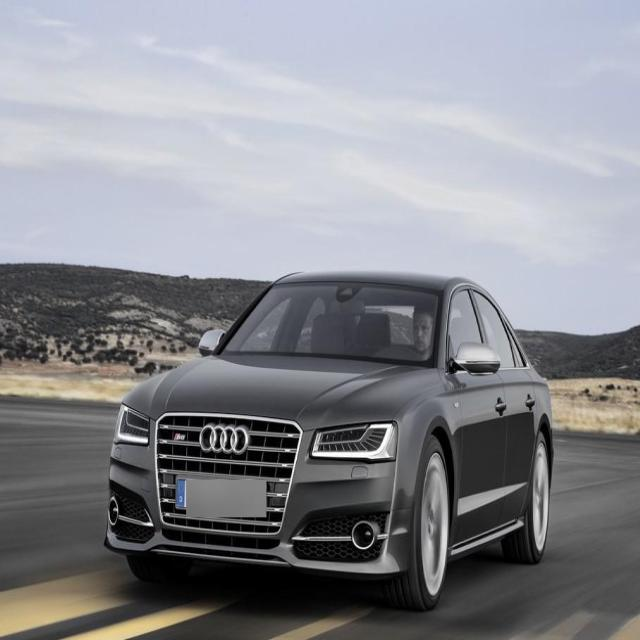front_bumper: (106, 436, 418, 576)
front_glass: (219, 286, 446, 364)
front_left_side_door: (448, 280, 504, 552)
front_left_side_light: (308, 418, 400, 467)
front_left_side_mirror: (454, 342, 502, 378)
front_right_side_light: (112, 396, 152, 451)
front_right_side_mirror: (198, 323, 226, 359)
wheel: (404, 441, 452, 608), (512, 426, 550, 562)
